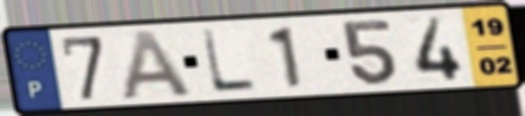1: (266, 24, 304, 90)
4: (411, 15, 466, 84)
5: (337, 18, 401, 88)
7: (58, 35, 107, 102)
A: (119, 27, 197, 102)
L: (198, 27, 260, 95)
